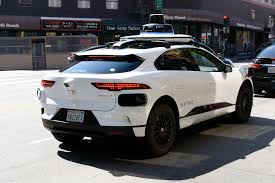car: (42, 41, 255, 154), (250, 42, 275, 96)
